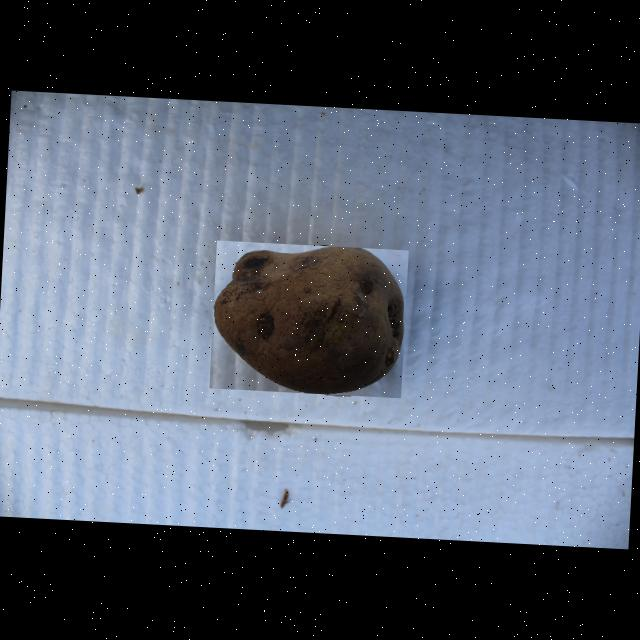Diseased-fungal potato: (210, 240, 408, 398)
